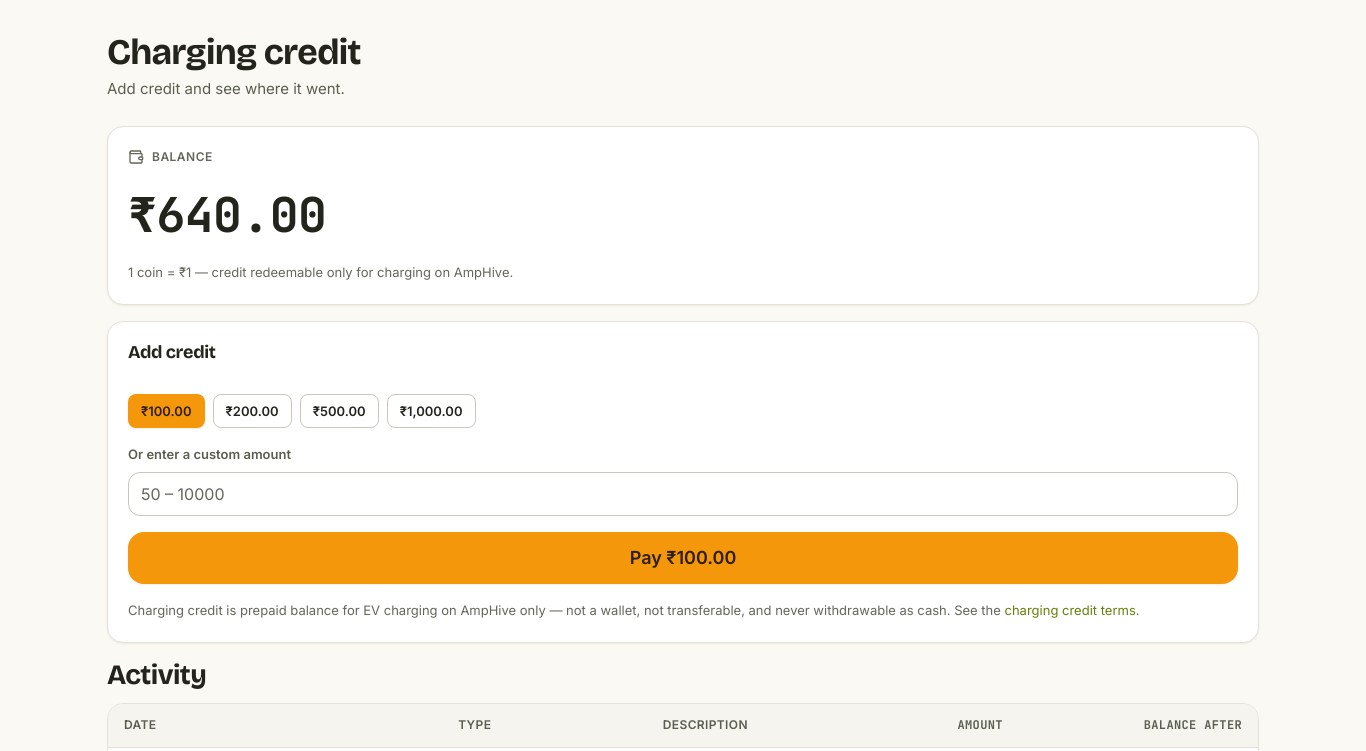
Test: checkout flow › shows the order id and a support-reference note when verification fails
Click the button "Pay ₹100.00". click: (683, 558)
box: x1=128 y1=532 x2=1238 y2=584
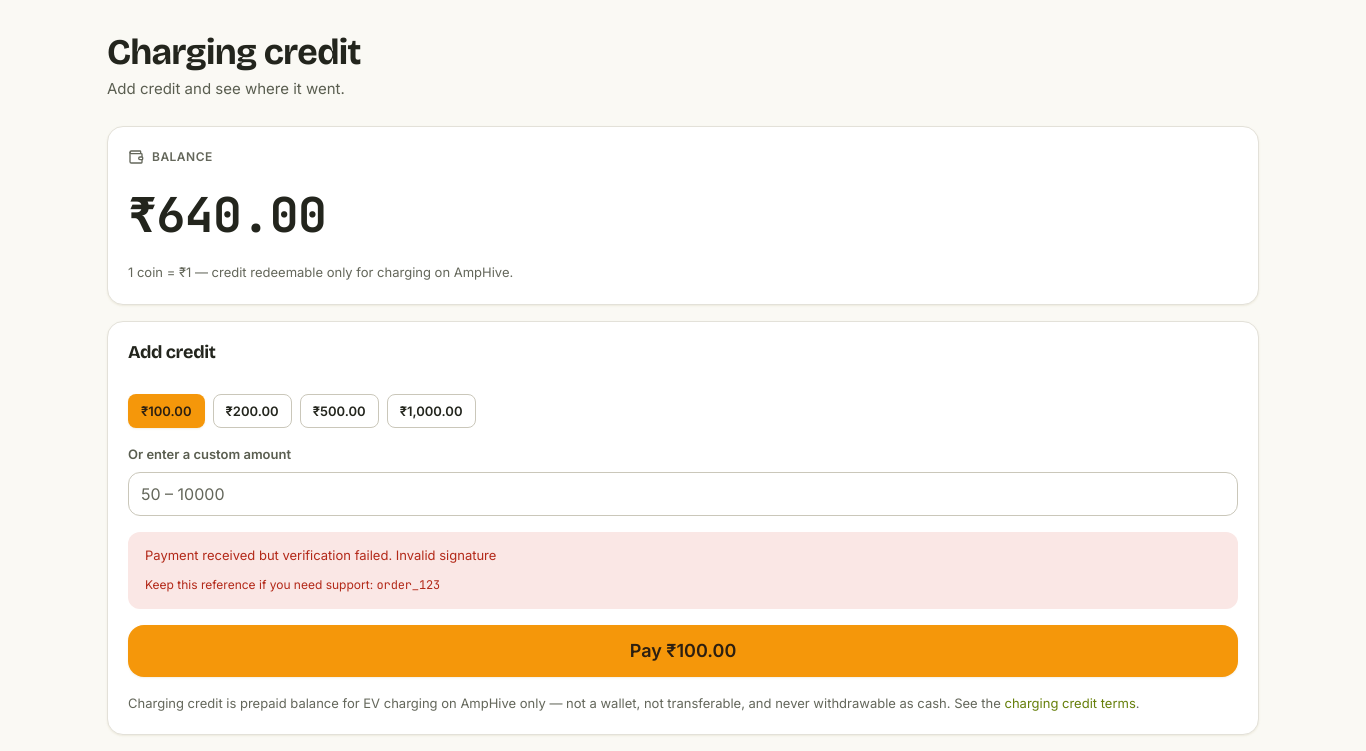
Expected: the text "Payment received but verification failed. Invalid signature" is shown, x1=145 y1=545 x2=496 y2=567
Expected: the text "order_123" is shown, x1=376 y1=577 x2=440 y2=593
